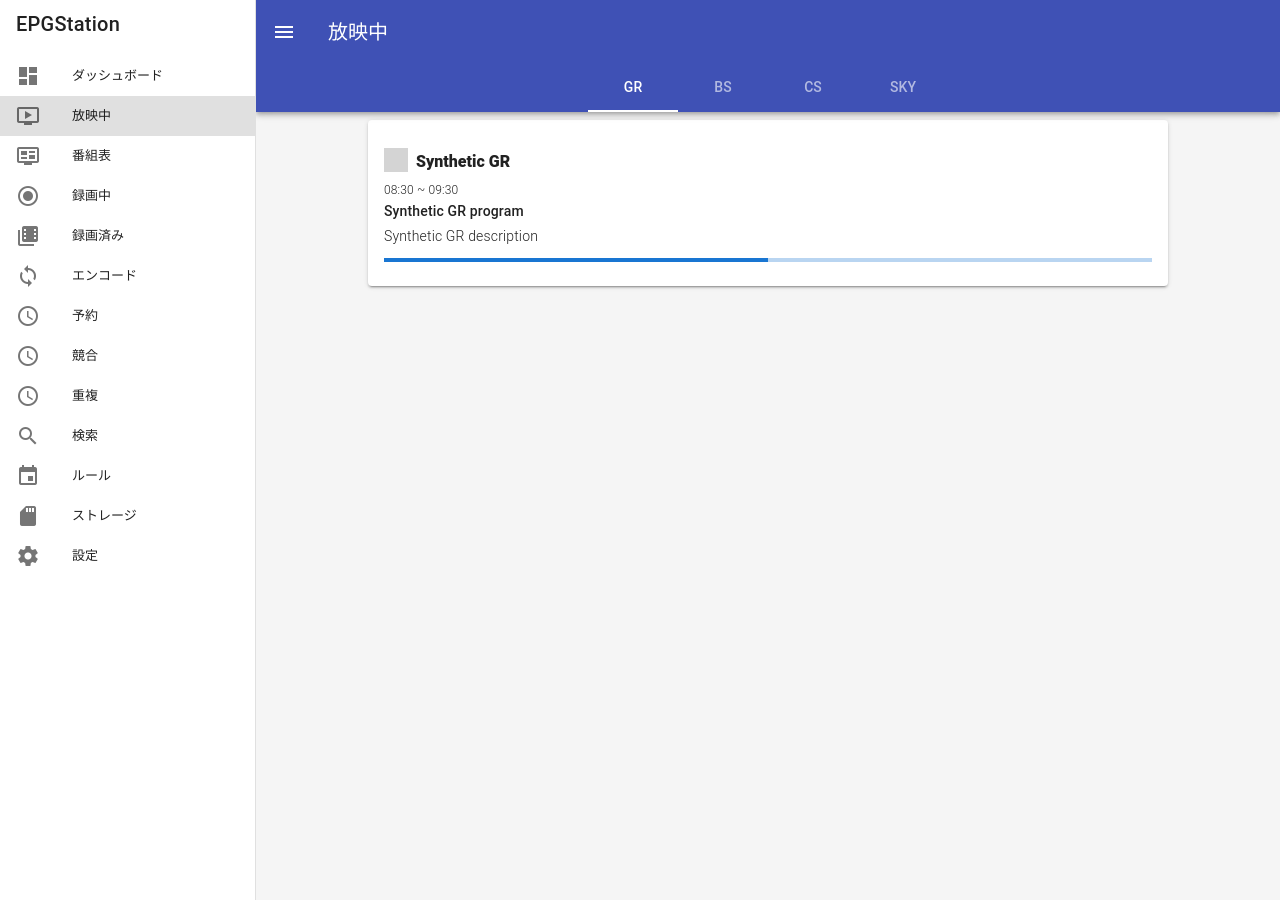
Test: On Air card and ProgramDialog actions › [AC 2.6] [AC 3.2] [AC 3.16] opens a stream selection entrypoint from the card body
Click the element with test id "onair-card-body-10". click: (421, 190)
box: [384,180,1152,262]
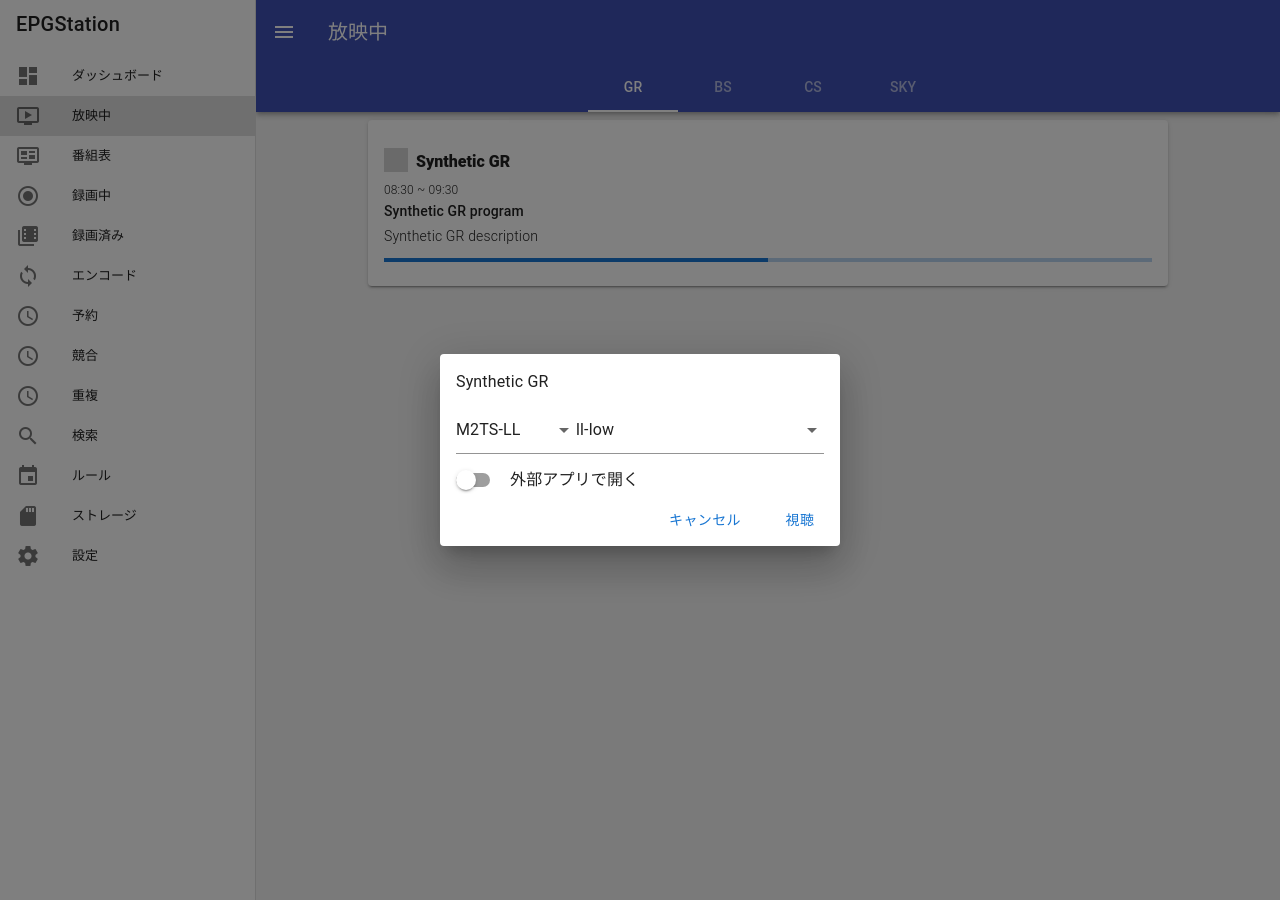
Result: the dialog named "ストリーム選択" shows "Synthetic GR" at [456,372,548,391]
Result: the switch labelled "外部アプリで開く" is shown at [456,466,502,494]
Result: the button "キャンセル" is shown at [650,502,760,538]
